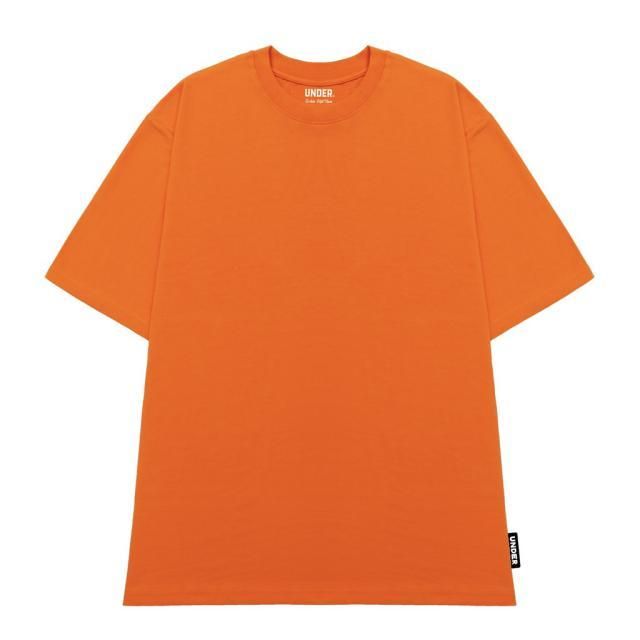Shirt: (44, 44, 598, 606)
